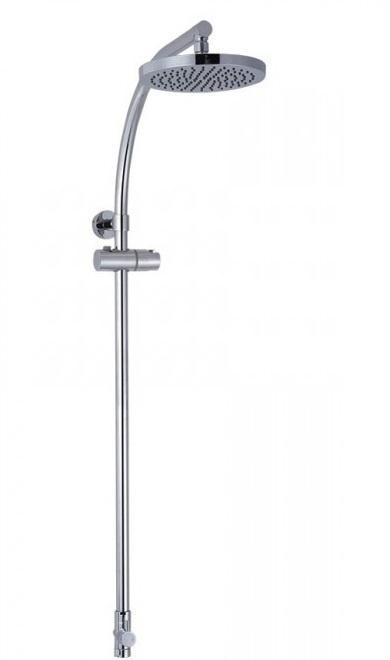Ducha: (89, 0, 277, 659)
